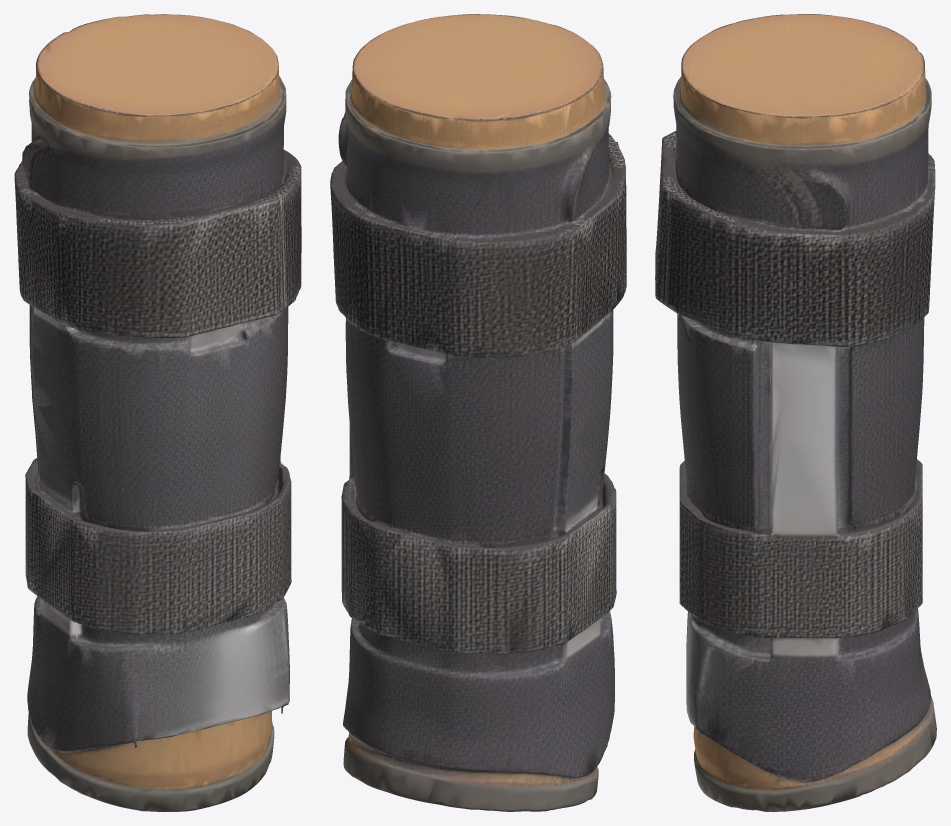
File: vet_equip_splint.glb
The picture shows the model from 3 angles, left to right: view 1: azimuth 30°, elevation 25°; view 2: azimuth 150°, elevation 25°; view 3: azimuth 270°, elevation 25°; orthographic projection. The views are drawn at different scales.
Visible parts, largest first — view 1: model; view 2: model; view 3: model.
Boxes of the visible parts, box(x1,y1,x2,y2) form: model: box(14, 14, 301, 811); model: box(330, 14, 626, 811); model: box(655, 14, 936, 811).
Bounding box in the file's own units: 0.6704 × 1.9 × 0.6819.
Materials: 1 (1 with a texture image).
